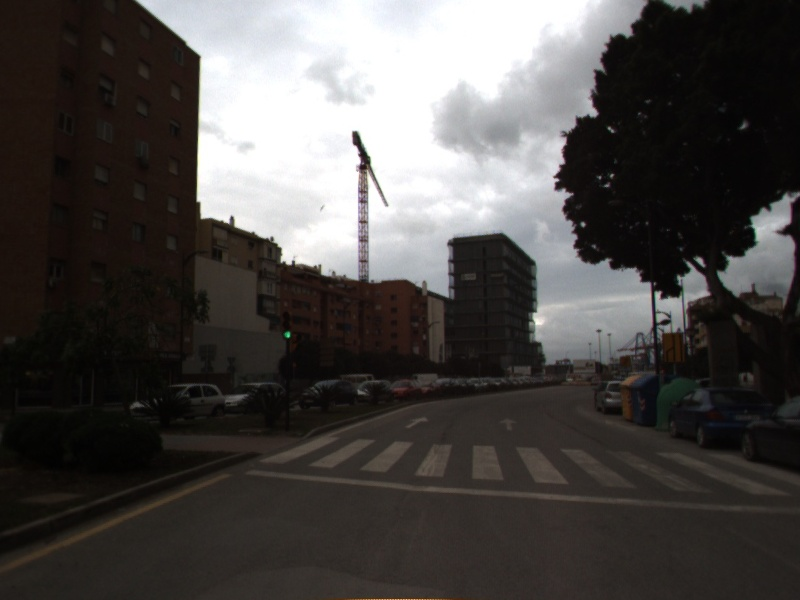STRAIGHT: (403, 415, 430, 430), (498, 416, 520, 432)
